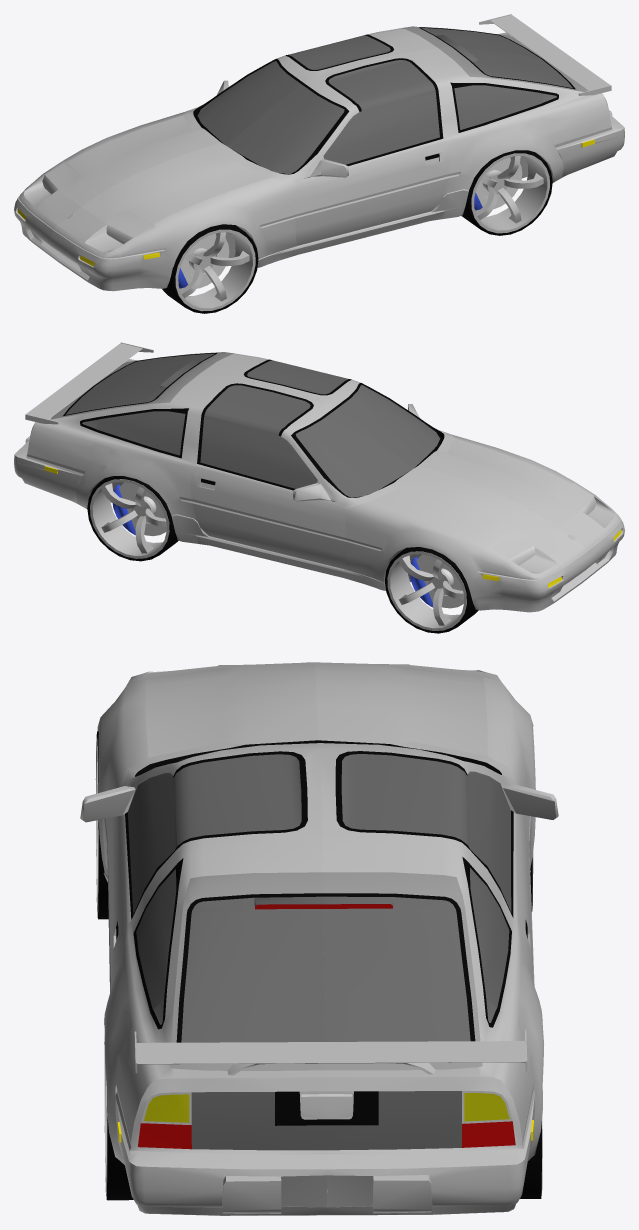
3 renders of one model, top to bottom at view 1: azimuth 30°, elevation 25°; view 2: azimuth 150°, elevation 25°; view 3: azimuth 270°, elevation 25°, orthographic. The views are drawn at different scales.
Visible parts, largest first — view 1: Mesh18_Group_99_2_nissan_300zx1_Nissan_300ZX_Z31__Tuned_1_Mo; view 2: Mesh18_Group_99_2_nissan_300zx1_Nissan_300ZX_Z31__Tuned_1_Mo; view 3: Mesh18_Group_99_2_nissan_300zx1_Nissan_300ZX_Z31__Tuned_1_Mo.
Part boxes in pixels (left/top/right/bottom): Mesh18_Group_99_2_nissan_300zx1_Nissan_300ZX_Z31__Tuned_1_Mo: left=14, top=14, right=624, bottom=313; Mesh18_Group_99_2_nissan_300zx1_Nissan_300ZX_Z31__Tuned_1_Mo: left=14, top=342, right=624, bottom=633; Mesh18_Group_99_2_nissan_300zx1_Nissan_300ZX_Z31__Tuned_1_Mo: left=80, top=662, right=558, bottom=1215.
Bounding box in the file's own units: 4.8 × 1.86 × 1.35.
